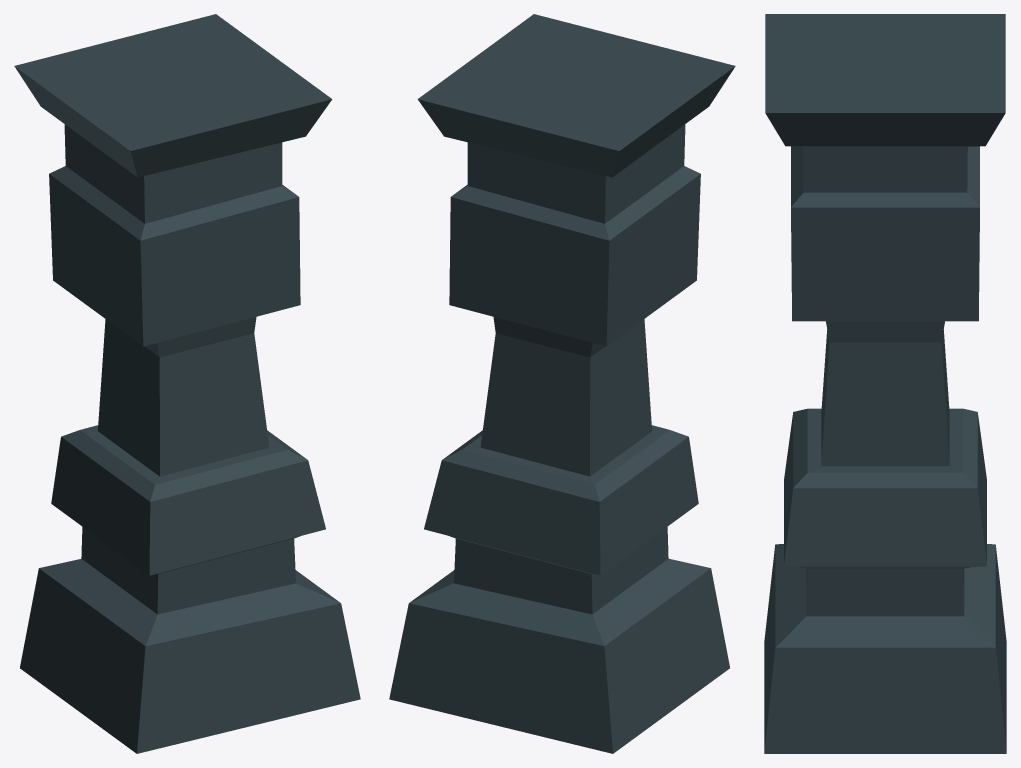
Rendered from Cemetery_column.fbx.
3 views of the same model, side by side, from view 1: azimuth 30°, elevation 25°; view 2: azimuth 150°, elevation 25°; view 3: azimuth 270°, elevation 25° (orthographic). The views are drawn at different scales.
Parts seen in each view (by area): view 1: Column.003; view 2: Column.003; view 3: Column.003.
Boxes of the visible parts, x1,y1,x2,y2 form: Column.003: (14, 14, 360, 753); Column.003: (389, 14, 735, 753); Column.003: (764, 14, 1006, 753).
Size of the model in its own units: 3.89 by 9.82 by 3.44.
